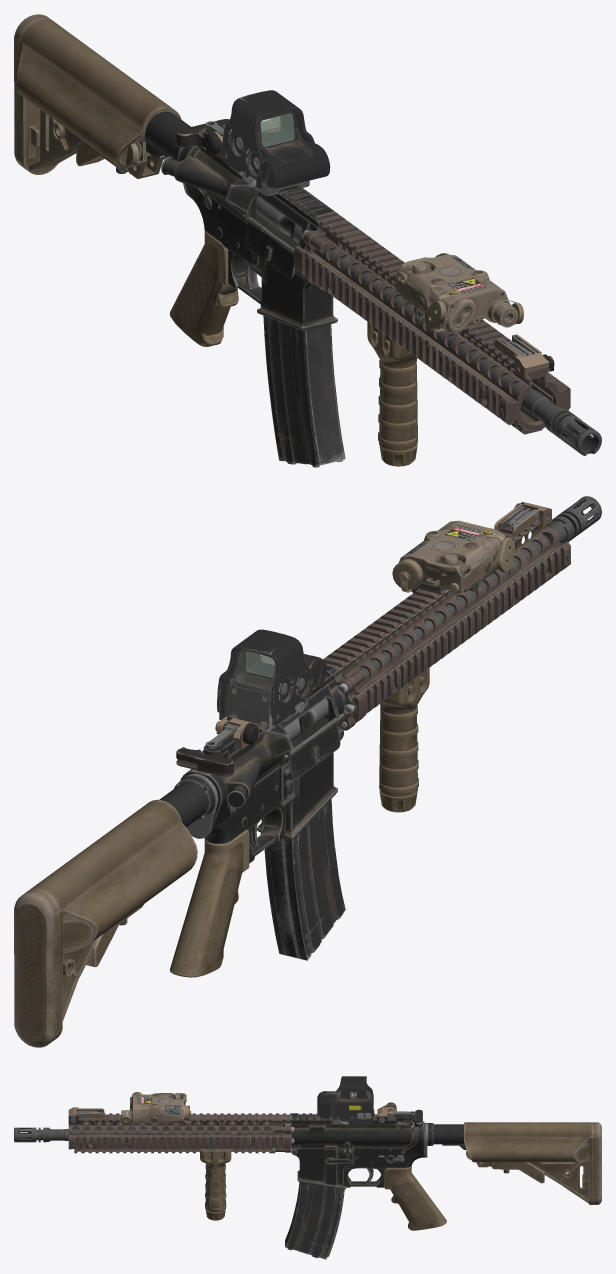
3 renders of one model, top to bottom at view 1: azimuth 30°, elevation 25°; view 2: azimuth 150°, elevation 25°; view 3: azimuth 270°, elevation 25°, orthographic. The views are drawn at different scales.
Parts seen in each view (by area): view 1: part_2_low, Fpart_1_low, Ppart_3_low, Tpart_4_low, Tpart_3_low, Spart_7_low, Tpart_5_low, part_8_low, Spart_2_low, Ppart_7_low, Fpart_4_low, Ppart_6_low (+10 smaller); view 2: part_2_low, Ppart_3_low, Fpart_1_low, Fpart_2_low, Tpart_4_low, Tpart_3_low, Spart_7_low, part_8_low, Tpart_5_low, Spart_5_low, Fpart_3_low, Tpart_2_low (+8 smaller); view 3: part_2_low, Ppart_3_low, Fpart_1_low, Tpart_4_low, Tpart_3_low, Spart_7_low, Fpart_2_low, Tpart_5_low, Ppart_2_low, Fpart_4_low, part_3_low, Ppart_7_low (+7 smaller).
Part boxes in pixels (x1,y1,x2,y2): part_2_low: [170, 131, 549, 467]; Fpart_1_low: [16, 18, 181, 178]; Ppart_3_low: [294, 212, 570, 430]; Tpart_4_low: [179, 146, 337, 330]; Tpart_3_low: [174, 146, 342, 289]; Spart_7_low: [222, 90, 314, 182]; Tpart_5_low: [161, 128, 334, 303]; part_8_low: [205, 121, 536, 447]; Spart_2_low: [258, 110, 322, 187]; Ppart_7_low: [302, 230, 601, 455]; Fpart_4_low: [28, 111, 190, 157]; Ppart_6_low: [329, 244, 533, 418]; part_2_low: [170, 502, 551, 977]; Ppart_3_low: [322, 520, 570, 721]; Fpart_1_low: [28, 799, 197, 1039]; Fpart_2_low: [14, 747, 185, 1047]; Tpart_4_low: [180, 717, 339, 863]; Tpart_3_low: [182, 678, 344, 846]; Spart_7_low: [217, 629, 312, 725]; part_8_low: [205, 506, 536, 793]; Tpart_5_low: [203, 665, 343, 855]; Spart_5_low: [219, 659, 326, 730]; Fpart_3_low: [63, 748, 233, 949]; Tpart_2_low: [174, 698, 328, 827]; part_2_low: [68, 1093, 446, 1259]; Ppart_3_low: [68, 1113, 291, 1149]; Fpart_1_low: [464, 1122, 592, 1204]; Tpart_4_low: [291, 1121, 425, 1189]; Tpart_3_low: [291, 1122, 427, 1183]; Spart_7_low: [332, 1076, 373, 1122]; Fpart_2_low: [397, 1121, 601, 1204]; Tpart_5_low: [291, 1113, 415, 1186]; Ppart_2_low: [74, 1130, 275, 1153]; Fpart_4_low: [431, 1124, 588, 1189]; part_3_low: [68, 1092, 395, 1212]; Ppart_7_low: [14, 1127, 294, 1151].
Size of the model in its own units: 8.85 by 34.49 by 104.
Materials: 5 (5 with a texture image).
